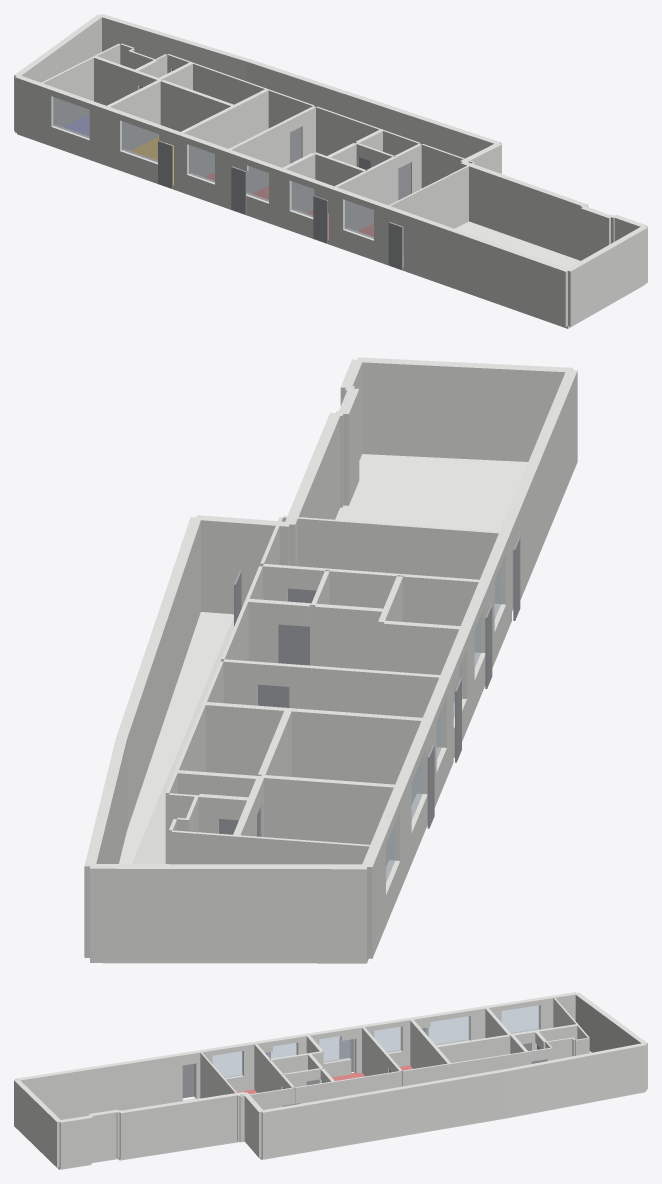
Rendered from D1_shop_146519_YES_it1.glb.
The picture shows the model from 3 angles, top to bottom: view 1: azimuth 30°, elevation 25°; view 2: azimuth 150°, elevation 25°; view 3: azimuth 270°, elevation 25°; orthographic projection. The views are drawn at different scales.
Parts seen in each view (by area): view 1: geometry_3, geometry_9, geometry_10, geometry_0; view 2: geometry_3, geometry_0, geometry_10, geometry_1, geometry_9; view 3: geometry_3, geometry_9, geometry_0, geometry_10.
Part boxes in pixels (bbox=[...]): geometry_3: bbox=[14, 14, 647, 326]; geometry_9: bbox=[53, 97, 373, 238]; geometry_10: bbox=[139, 68, 410, 269]; geometry_0: bbox=[17, 133, 645, 328]; geometry_3: bbox=[84, 357, 577, 960]; geometry_0: bbox=[90, 454, 528, 963]; geometry_10: bbox=[219, 537, 520, 836]; geometry_1: bbox=[132, 617, 233, 863]; geometry_9: bbox=[386, 566, 501, 881]; geometry_3: bbox=[14, 992, 647, 1168]; geometry_9: bbox=[212, 1005, 539, 1077]; geometry_0: bbox=[57, 1051, 645, 1169]; geometry_10: bbox=[182, 1027, 547, 1106].
Size of the model in its own units: 16.52 by 2.85 by 33.86.
